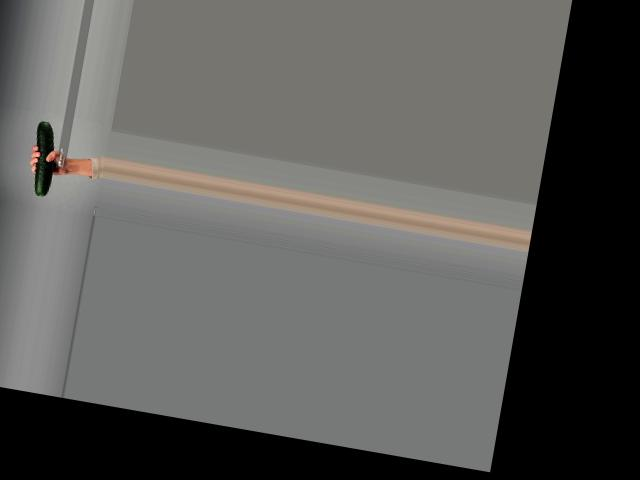cucumber: (26, 119, 61, 195)
